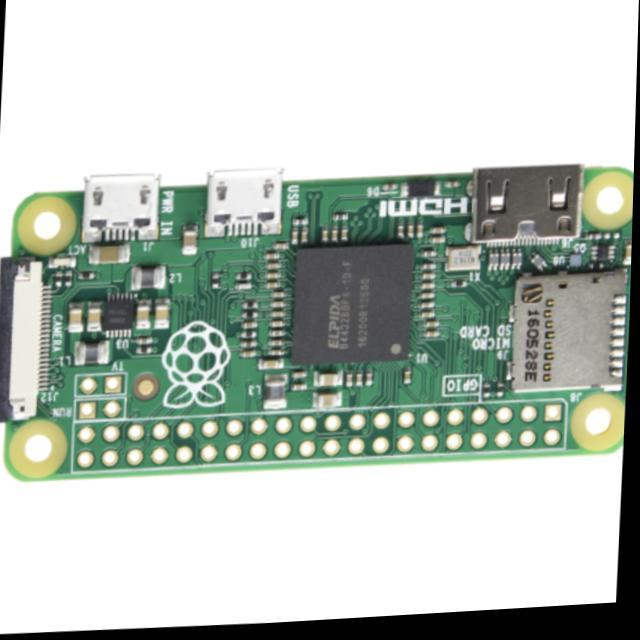Raspberry-Pi-Zero: (1, 166, 632, 481)
